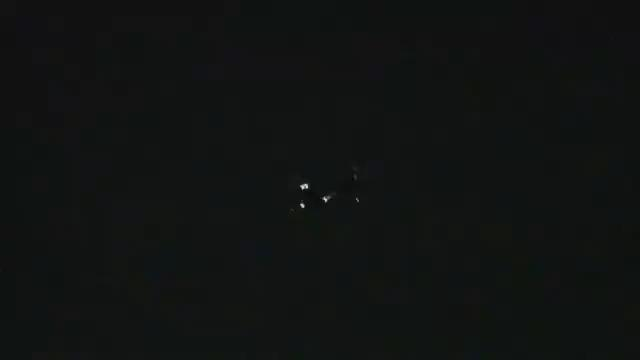Plane: (279, 172, 343, 218)
